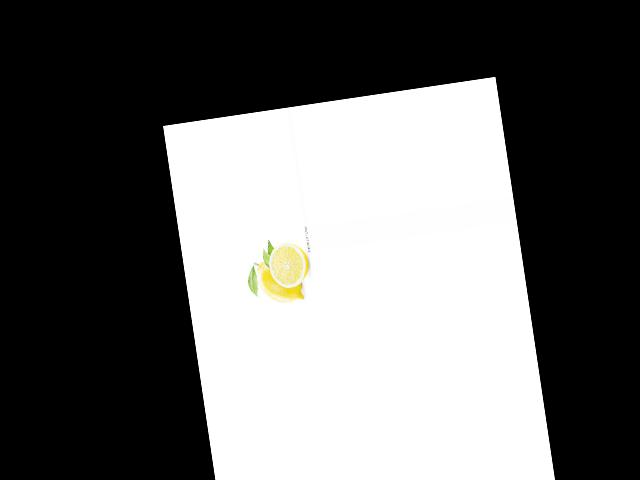lemon: (253, 252, 307, 314)
